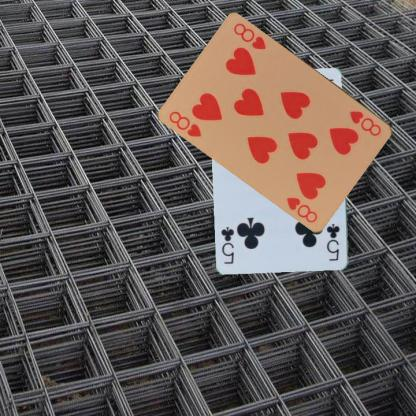5c: (324, 222, 341, 262)
8h: (166, 108, 204, 139), (347, 107, 383, 137)
